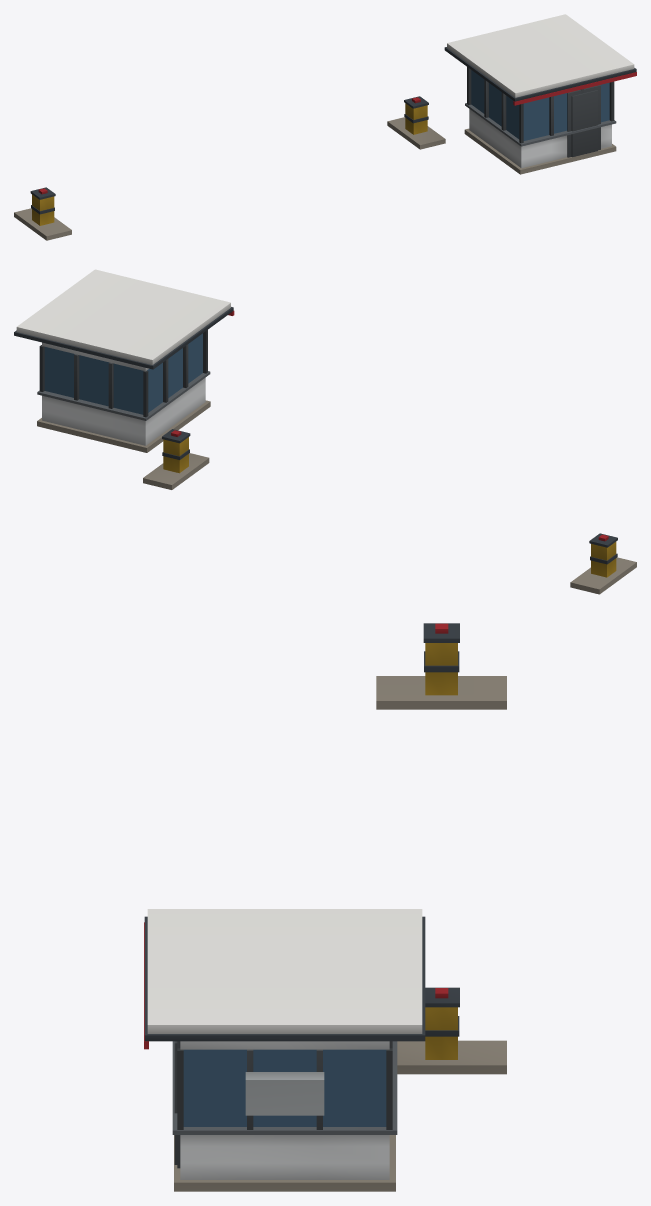
Rendered from porteria-CXr-QGO8.glb.
3 views of the same model, one above another, from view 1: azimuth 30°, elevation 25°; view 2: azimuth 150°, elevation 25°; view 3: azimuth 270°, elevation 25° (orthographic). The views are drawn at different scales.
Parts seen in each view (by area): view 1: pieza.021, pieza.003, pieza.001, puerta.001, pieza, pieza.022, pieza.031, pieza.026, pieza.020, puerta, pieza.023, pieza.027 (+1 smaller); view 2: pieza.021, pieza.003, pieza.001, pieza, pieza.022, pieza.020, pieza.026, pieza.031, pieza.027, pieza.032; view 3: pieza.021, pieza.003, pieza.001, pieza.026, pieza.025, pieza.022, pieza.031, pieza, pieza.020, pieza.002, pieza.032, pieza.027.
Part boxes in pixels (x1,y1,x2,y2): pieza.021: (447, 14, 634, 97); pieza.003: (471, 70, 609, 140); pieza.001: (469, 109, 611, 168); puerta.001: (571, 90, 597, 157); pieza: (464, 128, 616, 174); pieza.022: (444, 47, 636, 101); pieza.031: (387, 117, 445, 149); pieza.026: (14, 208, 71, 240); pieza.020: (465, 103, 616, 146); puerta: (567, 85, 600, 157); pieza.023: (513, 72, 636, 105); pieza.027: (32, 194, 54, 225); pieza.021: (16, 269, 230, 364); pieza.003: (44, 333, 202, 414); pieza.001: (42, 378, 205, 445); pieza: (37, 400, 210, 452); pieza.022: (14, 307, 233, 369); pieza.020: (37, 371, 210, 420); pieza.026: (570, 557, 636, 594); pieza.031: (143, 453, 209, 489); pieza.027: (591, 541, 616, 577); pieza.032: (163, 437, 188, 473); pieza.021: (147, 909, 422, 1033); pieza.003: (183, 1049, 386, 1126); pieza.001: (180, 1135, 389, 1179); pieza.026: (376, 676, 506, 709); pieza.025: (245, 1072, 324, 1115); pieza.022: (144, 916, 425, 1041); pieza.031: (397, 1040, 506, 1074); pieza: (174, 1135, 395, 1191); pieza.020: (172, 1041, 397, 1134); pieza.002: (180, 1041, 389, 1049); pieza.032: (425, 1007, 457, 1059); pieza.027: (425, 643, 457, 695).
Size of the model in its own units: 18.81 by 3 by 5.56.
